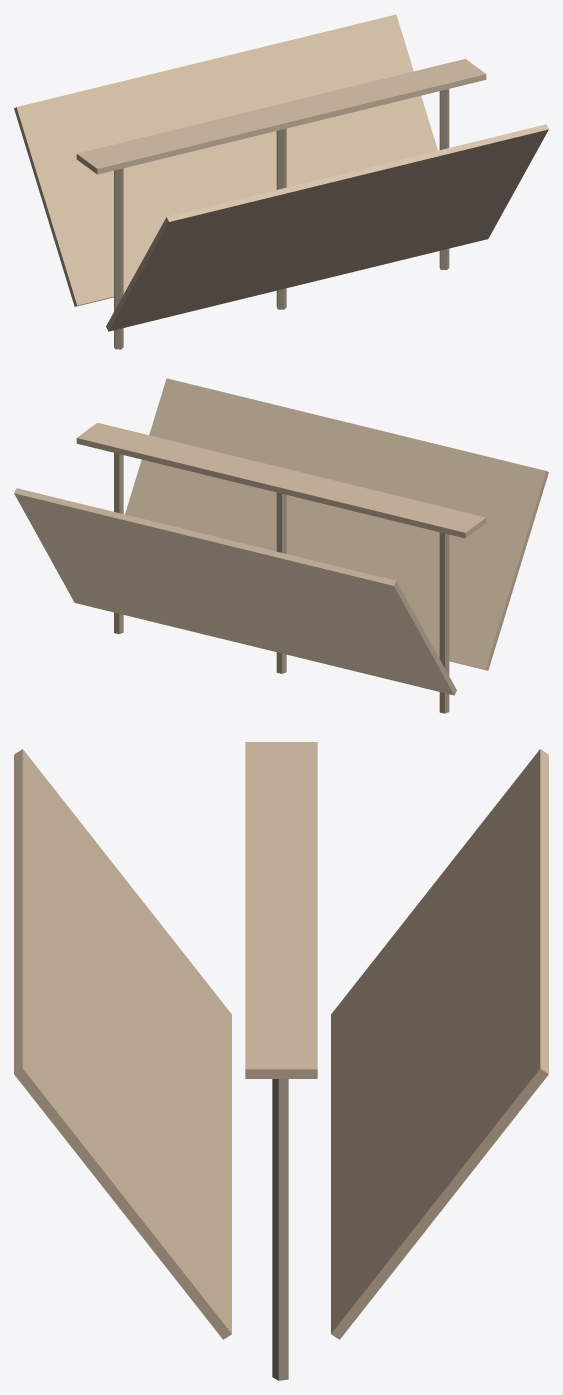
File: BedouinTent.glb
The picture shows the model from 3 angles, top to bottom: view 1: azimuth 30°, elevation 25°; view 2: azimuth 150°, elevation 25°; view 3: azimuth 270°, elevation 25°; orthographic projection. The views are drawn at different scales.
Visible parts, largest first — view 1: Tent fall.001, Tent fall, Tent ridge, Limb.091, Limb.092, Limb.093; view 2: Tent fall, Tent fall.001, Tent ridge, Limb.091, Limb.092, Limb.093; view 3: Tent fall, Tent fall.001, Tent ridge, Limb.093.
Part boxes in pixels (bbox=[...]): Tent fall.001: bbox=[14, 14, 437, 306]; Tent fall: bbox=[106, 124, 548, 331]; Tent ridge: bbox=[76, 59, 486, 174]; Limb.091: bbox=[114, 168, 123, 349]; Limb.092: bbox=[276, 128, 286, 309]; Limb.093: bbox=[439, 89, 449, 269]; Tent fall: bbox=[125, 378, 548, 670]; Tent fall.001: bbox=[14, 488, 456, 695]; Tent ridge: bbox=[76, 422, 486, 538]; Limb.091: bbox=[439, 532, 449, 713]; Limb.092: bbox=[276, 492, 286, 673]; Limb.093: bbox=[114, 453, 123, 634]; Tent fall: bbox=[14, 749, 231, 1339]; Tent fall.001: bbox=[331, 749, 548, 1339]; Tent ridge: bbox=[245, 742, 317, 1078]; Limb.093: bbox=[272, 1079, 288, 1380].
Size of the model in its own units: 4.3 by 2.05 by 2.97.
